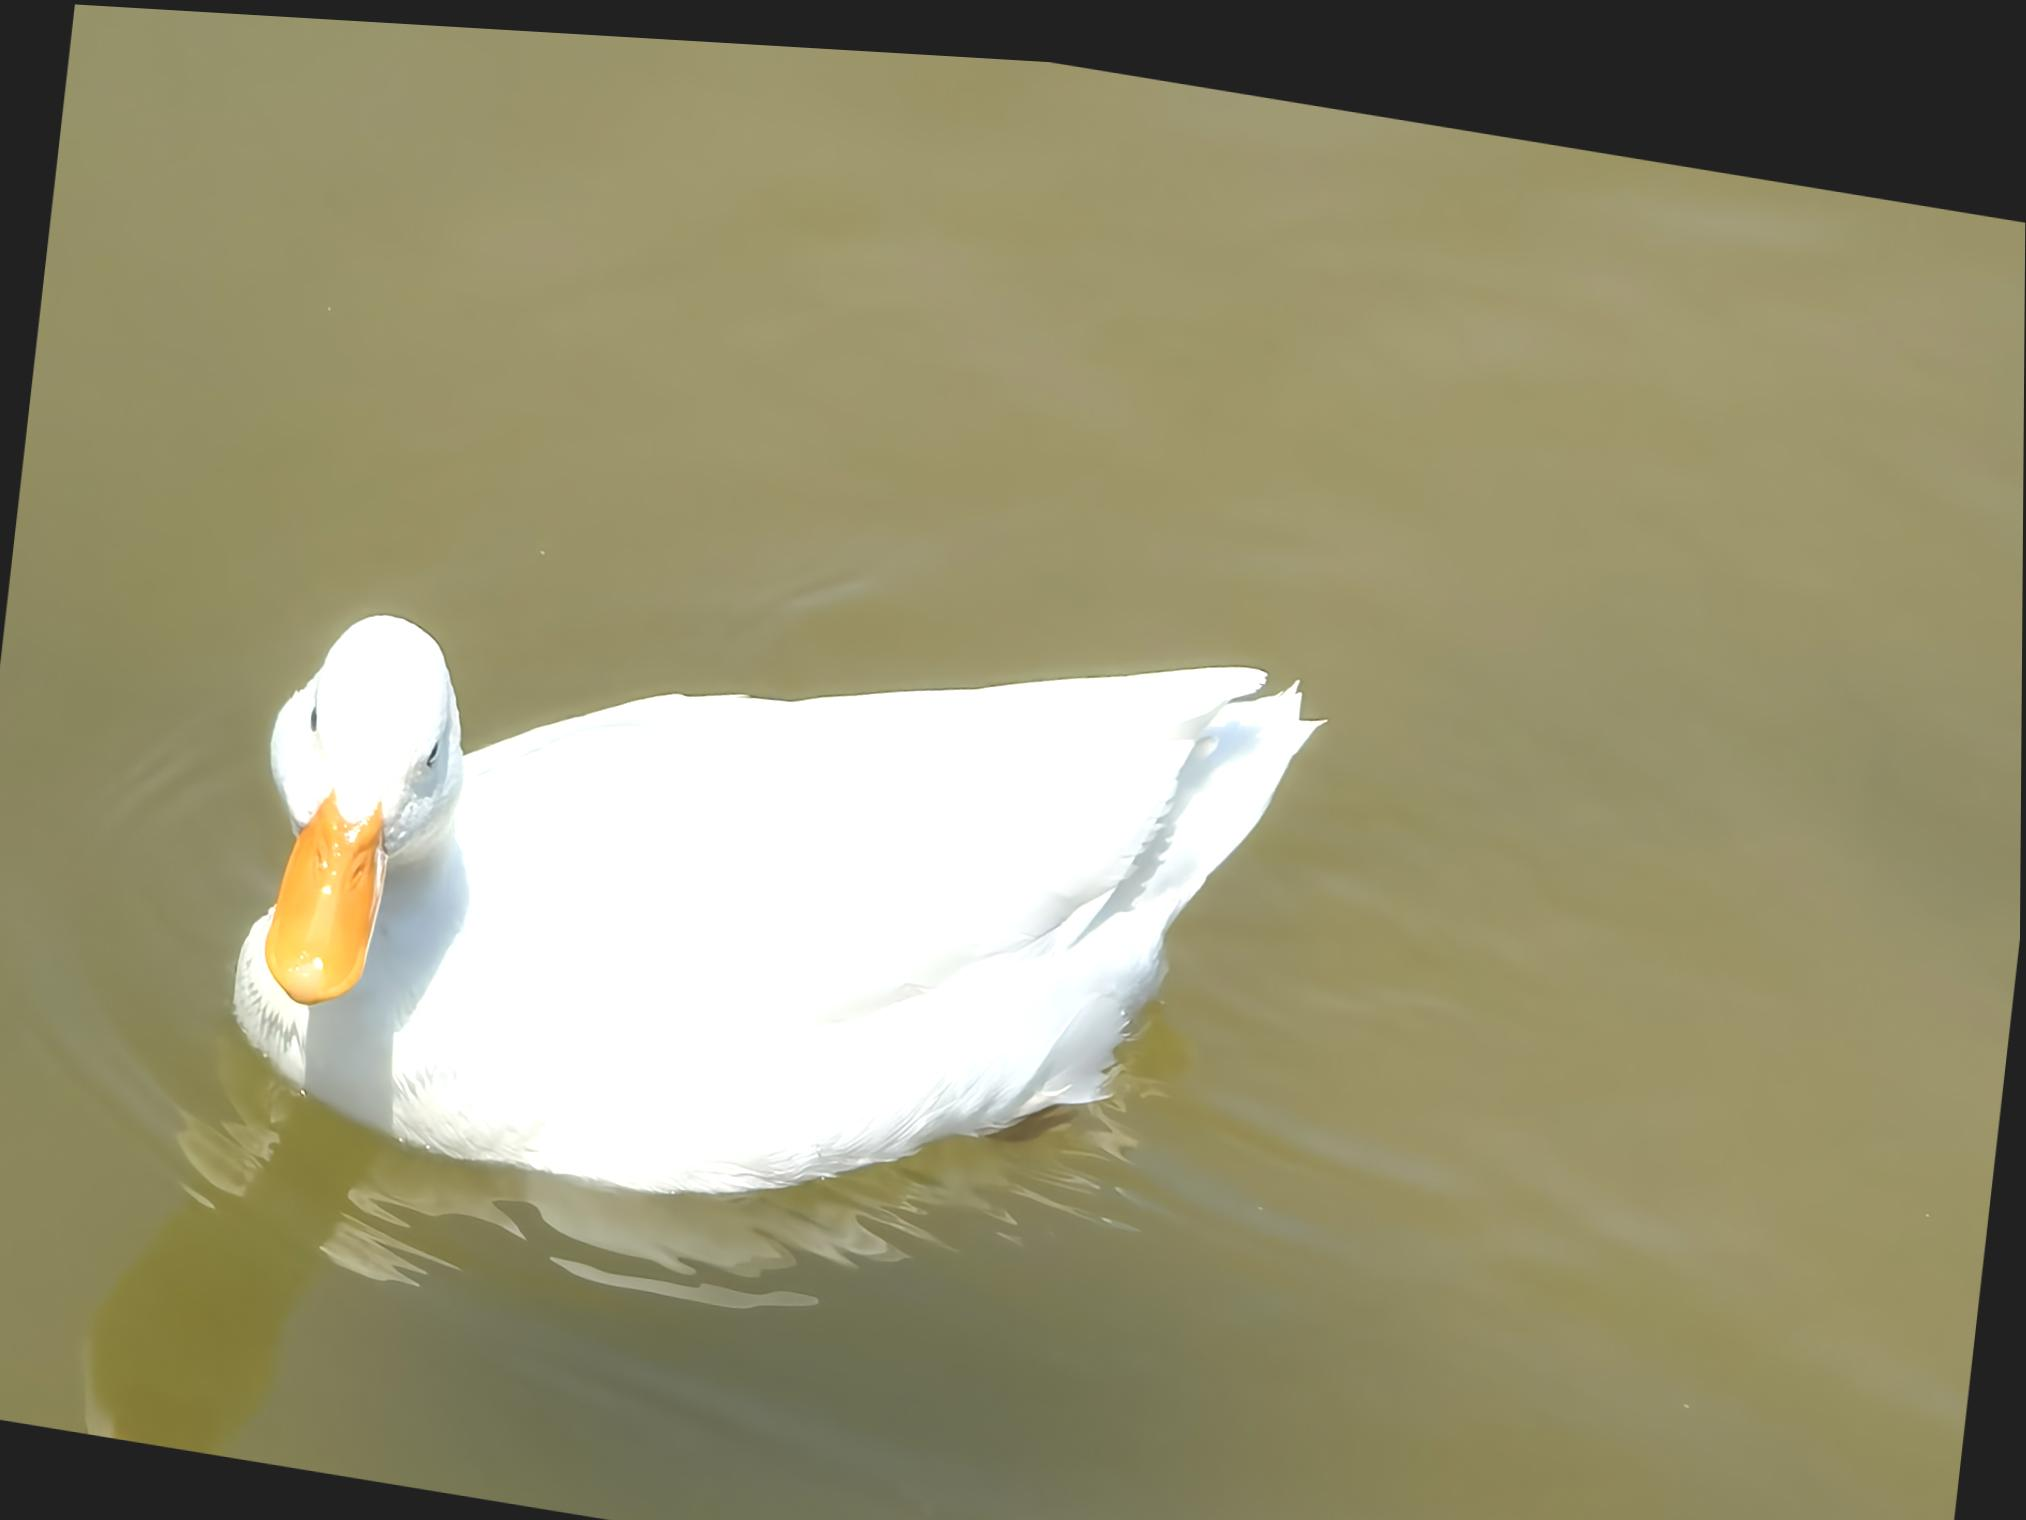duck: (185, 473, 1334, 1295)
